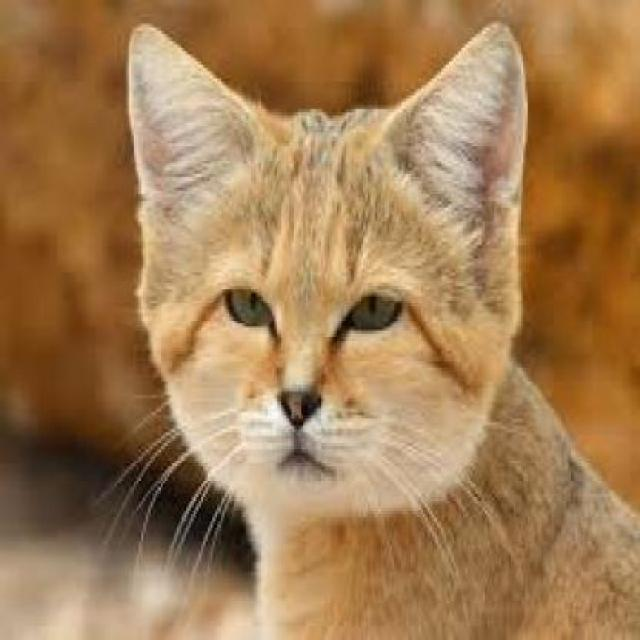Not_a_Chicken: (93, 8, 587, 595)
